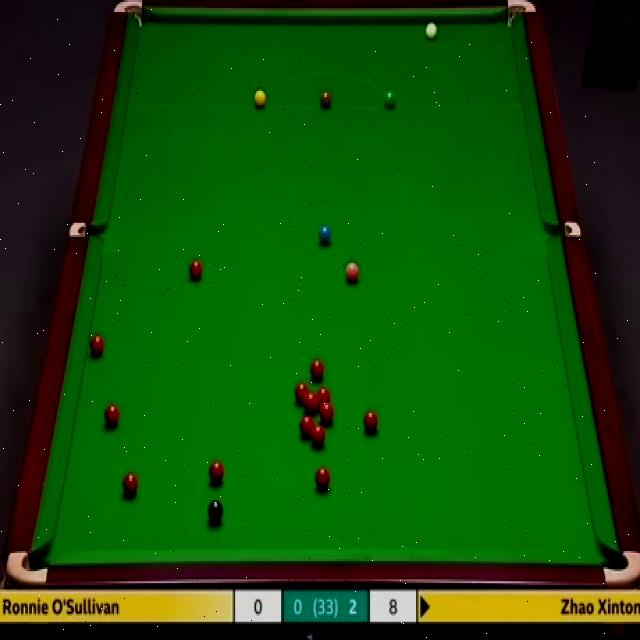black-ball: (207, 500, 224, 528)
blue-ball: (318, 222, 332, 246)
brown-ball: (320, 87, 332, 109)
green-ball: (383, 91, 396, 111)
pink-ball: (346, 260, 360, 282)
red-ball: (314, 466, 332, 493), (121, 471, 139, 498), (88, 334, 104, 361), (104, 401, 120, 428), (364, 409, 379, 436), (310, 426, 325, 452), (209, 460, 225, 484), (310, 358, 324, 383), (294, 381, 308, 404), (299, 416, 313, 439), (189, 258, 202, 280), (320, 403, 333, 424), (317, 388, 330, 408), (304, 392, 317, 411)
white-ball: (423, 18, 439, 45)
yellow-ball: (254, 90, 266, 110)
